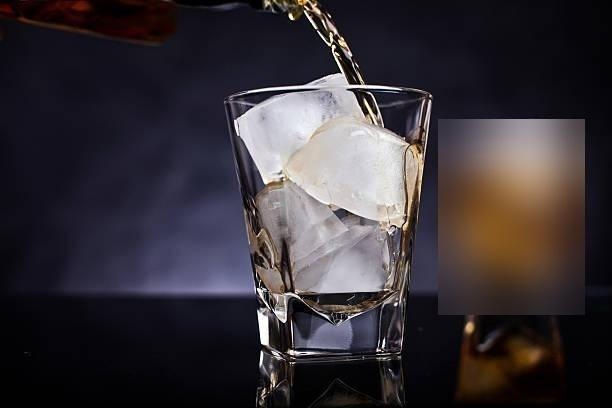glass-normal: (223, 81, 435, 374)
